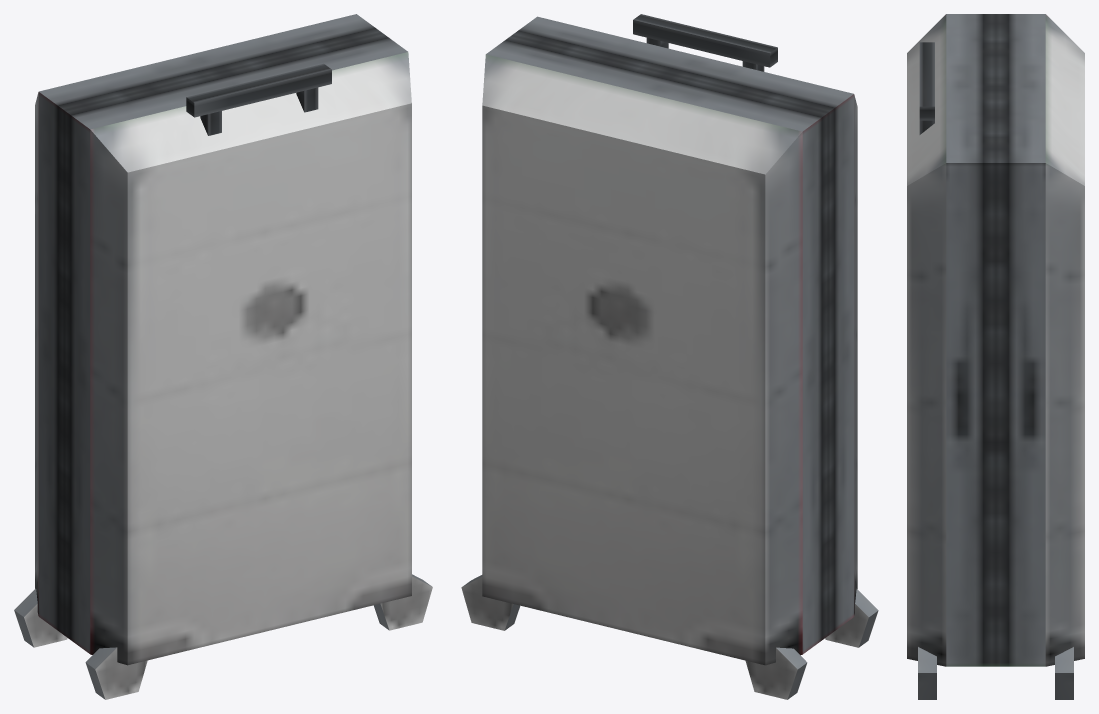
The model's file is Suitcase01A.obj.
3 views of the same model, side by side, from view 1: azimuth 30°, elevation 25°; view 2: azimuth 150°, elevation 25°; view 3: azimuth 270°, elevation 25° (orthographic). The views are drawn at different scales.
Visible parts, largest first — view 1: Suitcase01.Bttm, Suitcase01.Top; view 2: Suitcase01.Top, Suitcase01.Bttm; view 3: Suitcase01.Bttm, Suitcase01.Top.
Part boxes in pixels (x1=…): Suitcase01.Bttm: x1=64, y1=33, x2=432, y2=699; Suitcase01.Top: x1=14, y1=14, x2=381, y2=647; Suitcase01.Top: x1=461, y1=35, x2=828, y2=699; Suitcase01.Bttm: x1=512, y1=14, x2=878, y2=647; Suitcase01.Bttm: x1=907, y1=14, x2=995, y2=699; Suitcase01.Top: x1=996, y1=14, x2=1084, y2=699.
Bounding box in the file's own units: 1.23 × 2 × 0.5833.
